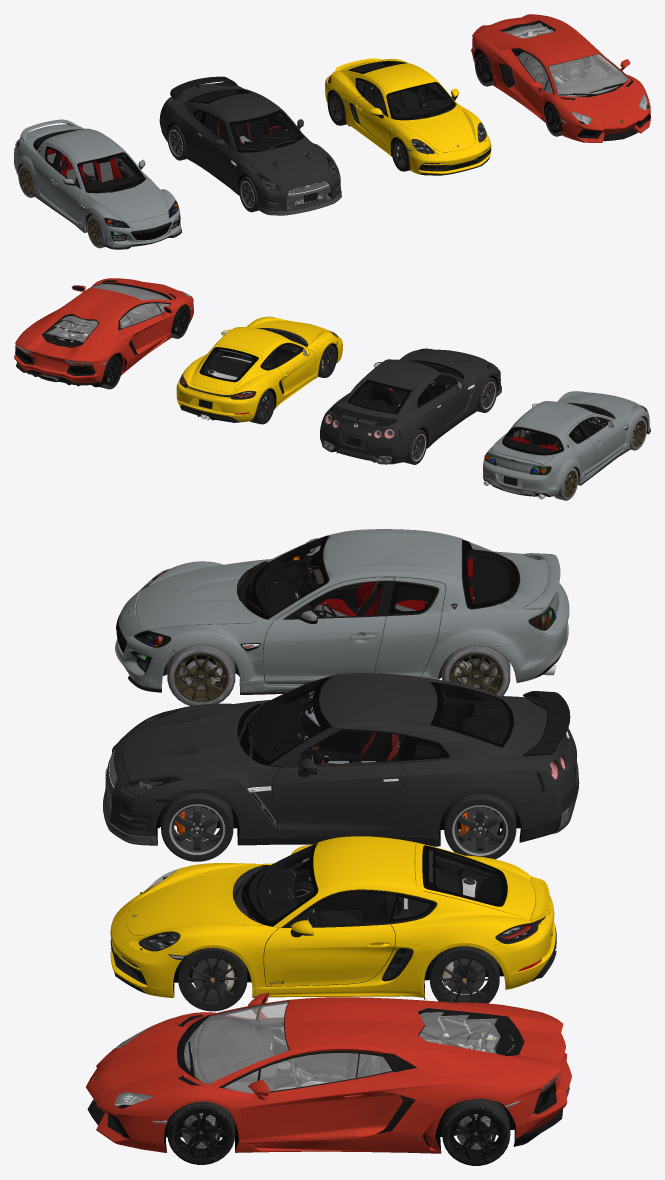
The model's file is cars_11_dials.fbx.
The picture shows the model from 3 angles, top to bottom: view 1: azimuth 30°, elevation 25°; view 2: azimuth 150°, elevation 25°; view 3: azimuth 270°, elevation 25°; orthographic projection. The views are drawn at different scales.
Parts seen in each view (by area): view 1: Body_Vehicle_Exterior_mm_ext, Body_CarPaint, Body_CarPaaint, Body_pM_CarPaint_Max1, SeeThrough_Vehicle_Exterior_mm_wind, Body_Vehicle_Exterior_mm_cab, SeeThrough_pM_Glass_WindowFront_Low, Body_internal, SeeThrough_window, Body_Vehicle_Exterior_mm_misc, SeeThrough_RX8phong20SG1, Body_pM_Interior_Max1 (+22 smaller); view 2: Body_CarPaint, Body_Vehicle_Exterior_mm_ext, Body_CarPaaint, Body_pM_CarPaint_Max1, Body_Vehicle_Exterior_mm_misc, SeeThrough_Vehicle_Exterior_mm_wind, Body_internal, SeeThrough_pM_Glass_WindowFront_Low, SeeThrough_window, SeeThrough_RX8phong20SG1, Body_RX8phong9SG1, Body_Vehicle_Exterior_mm_cab (+18 smaller); view 3: Body_CarPaint, Body_Vehicle_Exterior_mm_ext, Body_CarPaaint, Body_pM_CarPaint_Max1, SeeThrough_Vehicle_Exterior_mm_wind, SeeThrough_pM_Glass_WindowFront_Low, Body_internal, SeeThrough_window, Body_Vehicle_Exterior_mm_cab, SeeThrough_RX8phong20SG1, Body_Vehicle_Exterior_mm_misc, Body_RX8phong9SG1 (+26 smaller).
Boxes of the visible parts, x1,y1,x2,y2 form: Body_Vehicle_Exterior_mm_ext: [471, 14, 650, 142]; Body_CarPaint: [159, 83, 341, 211]; Body_CarPaaint: [14, 119, 181, 247]; Body_pM_CarPaint_Max1: [325, 58, 491, 174]; SeeThrough_Vehicle_Exterior_mm_wind: [504, 23, 647, 124]; Body_Vehicle_Exterior_mm_cab: [520, 52, 628, 96]; SeeThrough_pM_Glass_WindowFront_Low: [328, 61, 487, 163]; Body_internal: [190, 90, 303, 172]; SeeThrough_window: [190, 90, 299, 149]; Body_Vehicle_Exterior_mm_misc: [473, 20, 650, 141]; SeeThrough_RX8phong20SG1: [35, 129, 142, 190]; Body_pM_Interior_Max1: [357, 80, 452, 125]; Body_CarPaint: [320, 349, 501, 456]; Body_Vehicle_Exterior_mm_ext: [14, 278, 193, 382]; Body_CarPaaint: [483, 391, 650, 496]; Body_pM_CarPaint_Max1: [176, 317, 342, 422]; Body_Vehicle_Exterior_mm_misc: [16, 280, 192, 387]; SeeThrough_Vehicle_Exterior_mm_wind: [16, 284, 190, 364]; Body_internal: [350, 360, 464, 425]; SeeThrough_pM_Glass_WindowFront_Low: [180, 330, 337, 399]; SeeThrough_window: [350, 360, 459, 412]; SeeThrough_RX8phong20SG1: [504, 405, 605, 452]; Body_RX8phong9SG1: [504, 407, 606, 453]; Body_Vehicle_Exterior_mm_cab: [92, 283, 170, 328]; Body_CarPaint: [104, 673, 578, 837]; Body_Vehicle_Exterior_mm_ext: [86, 992, 571, 1153]; Body_CarPaaint: [115, 529, 569, 692]; Body_pM_CarPaint_Max1: [110, 836, 555, 997]; SeeThrough_Vehicle_Exterior_mm_wind: [114, 1001, 562, 1106]; SeeThrough_pM_Glass_WindowFront_Low: [122, 845, 537, 967]; Body_internal: [122, 681, 509, 834]; SeeThrough_window: [250, 680, 509, 764]; Body_Vehicle_Exterior_mm_cab: [184, 1001, 390, 1093]; SeeThrough_RX8phong20SG1: [256, 539, 513, 616]; Body_Vehicle_Exterior_mm_misc: [87, 1000, 567, 1150]; Body_RX8phong9SG1: [255, 539, 514, 674].
Size of the model in its own units: 12.55 by 1.42 by 4.85.
Materials: 77 (75 with a texture image).
